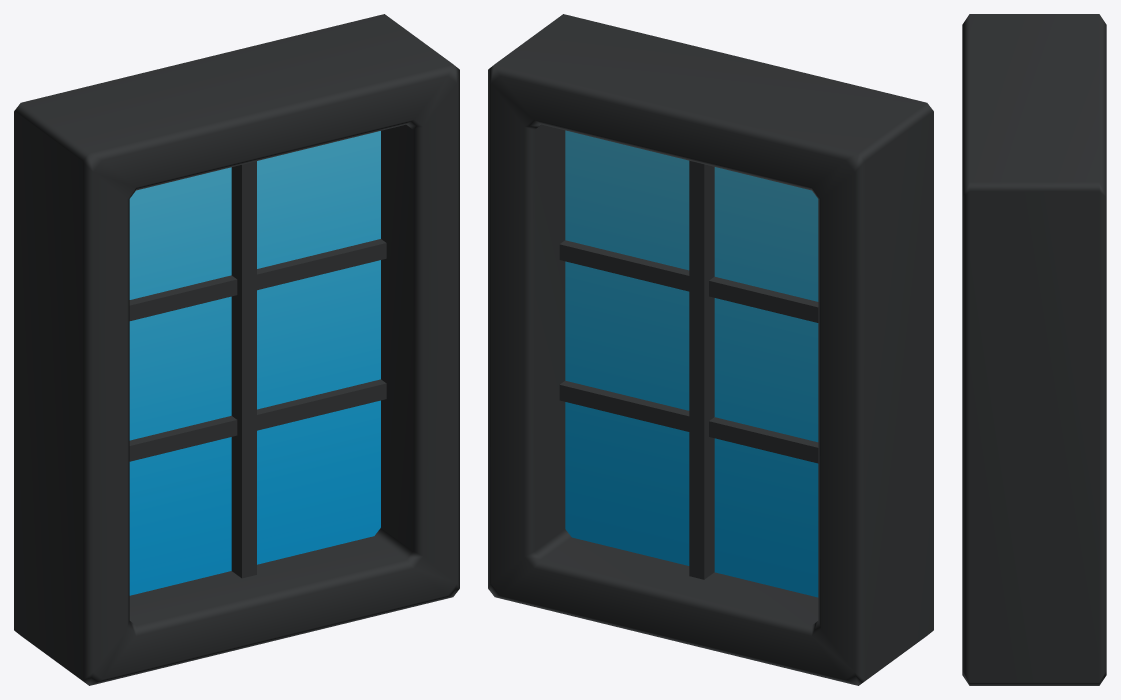
File: Window_Black_13.glb
The picture shows the model from 3 angles, left to right: view 1: azimuth 30°, elevation 25°; view 2: azimuth 150°, elevation 25°; view 3: azimuth 270°, elevation 25°; orthographic projection. The views are drawn at different scales.
Parts seen in each view (by area): view 1: Window_Black_13; view 2: Window_Black_13; view 3: Window_Black_13.
Boxes of the visible parts, box(x1,y1,x2,y2) form: Window_Black_13: box(14, 14, 459, 685); Window_Black_13: box(488, 14, 933, 685); Window_Black_13: box(962, 14, 1106, 685).
Bounding box in the file's own units: 1.14 × 1.54 × 0.4.
Materials: 2 (2 with a texture image).
